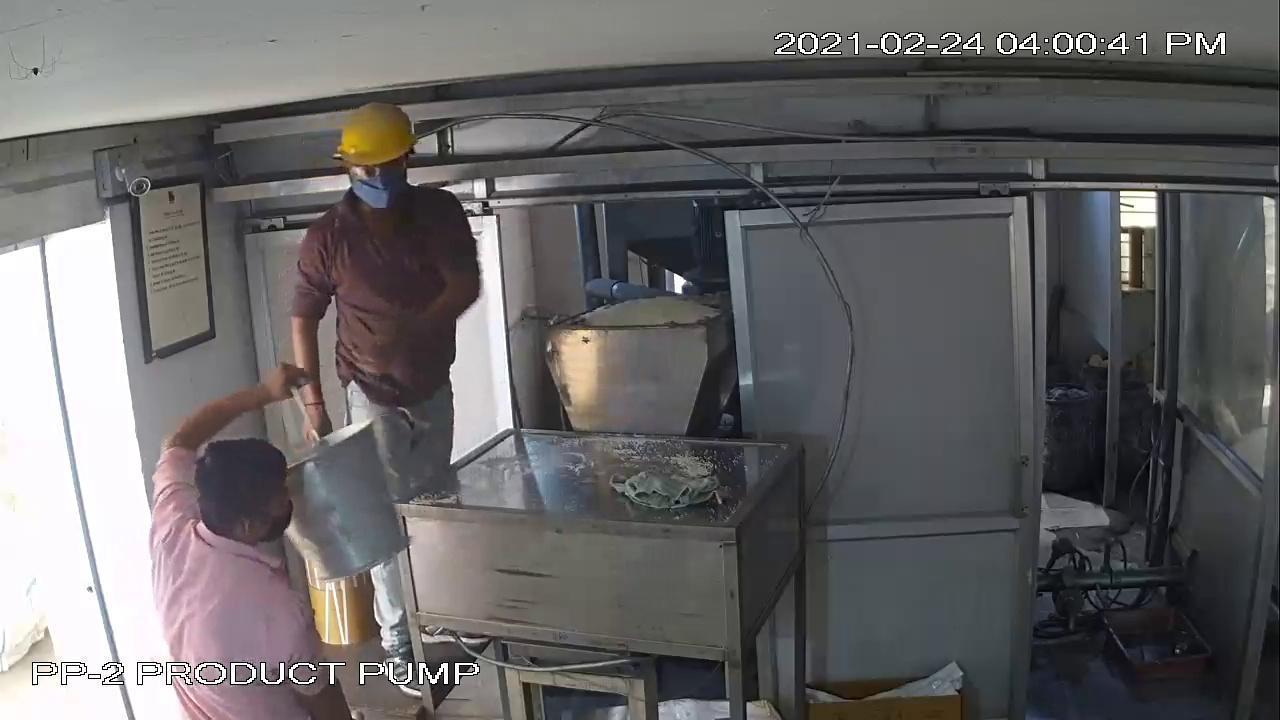helmet: (326, 97, 429, 170)
